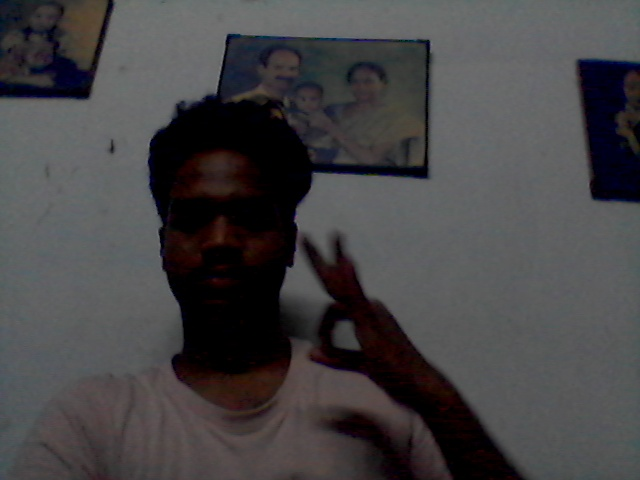Not Ok: (295, 220, 430, 394)
